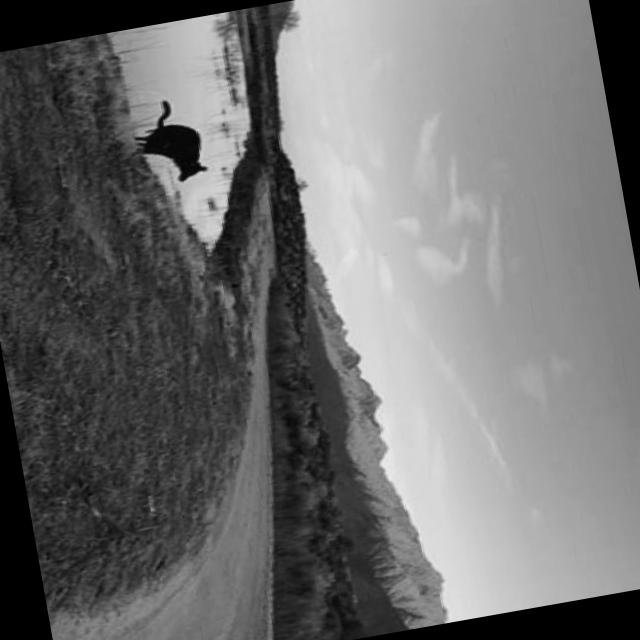squatting: (116, 91, 215, 198)
